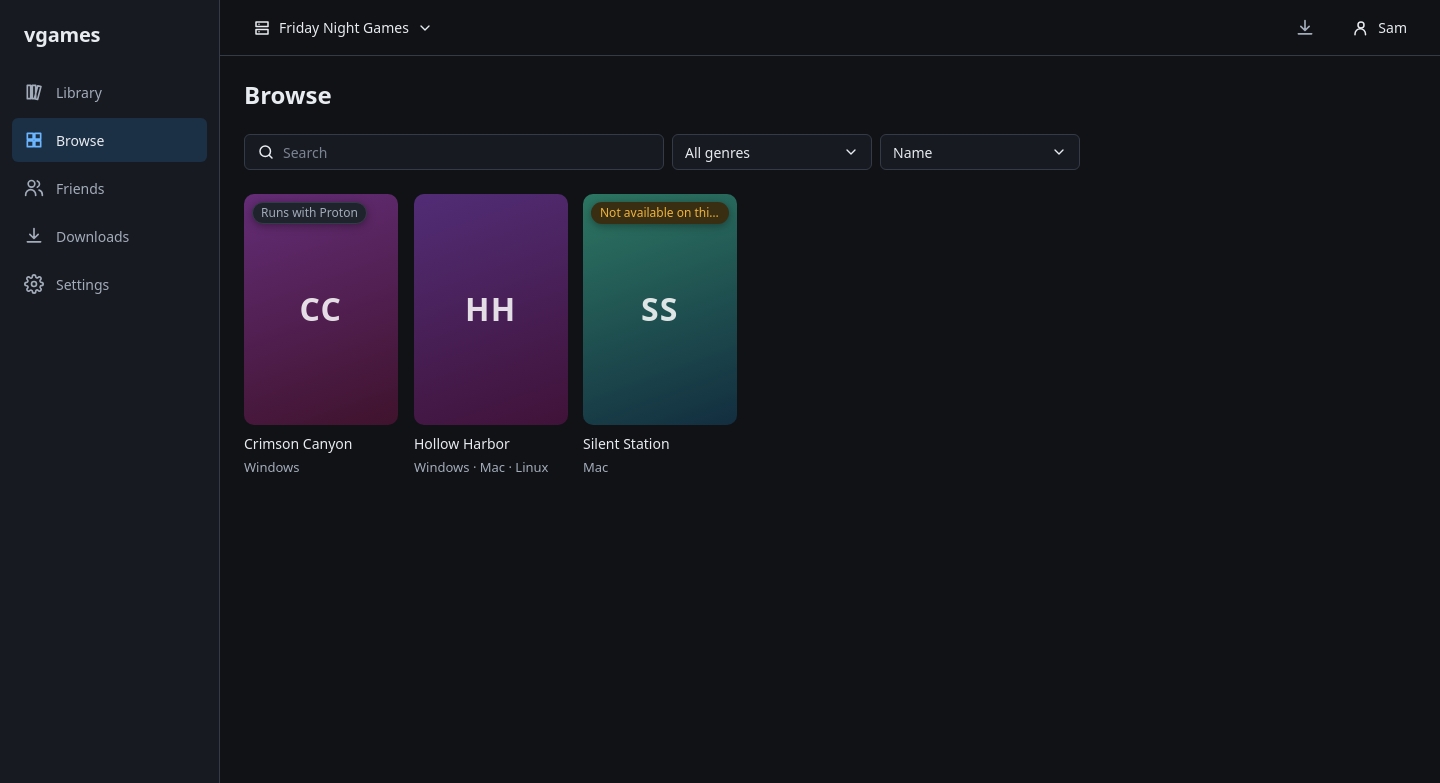
Test: browse › opens the details page
Click the link "Crimson Canyon" at (321, 336), box x1=244 y1=194 x2=398 y2=477
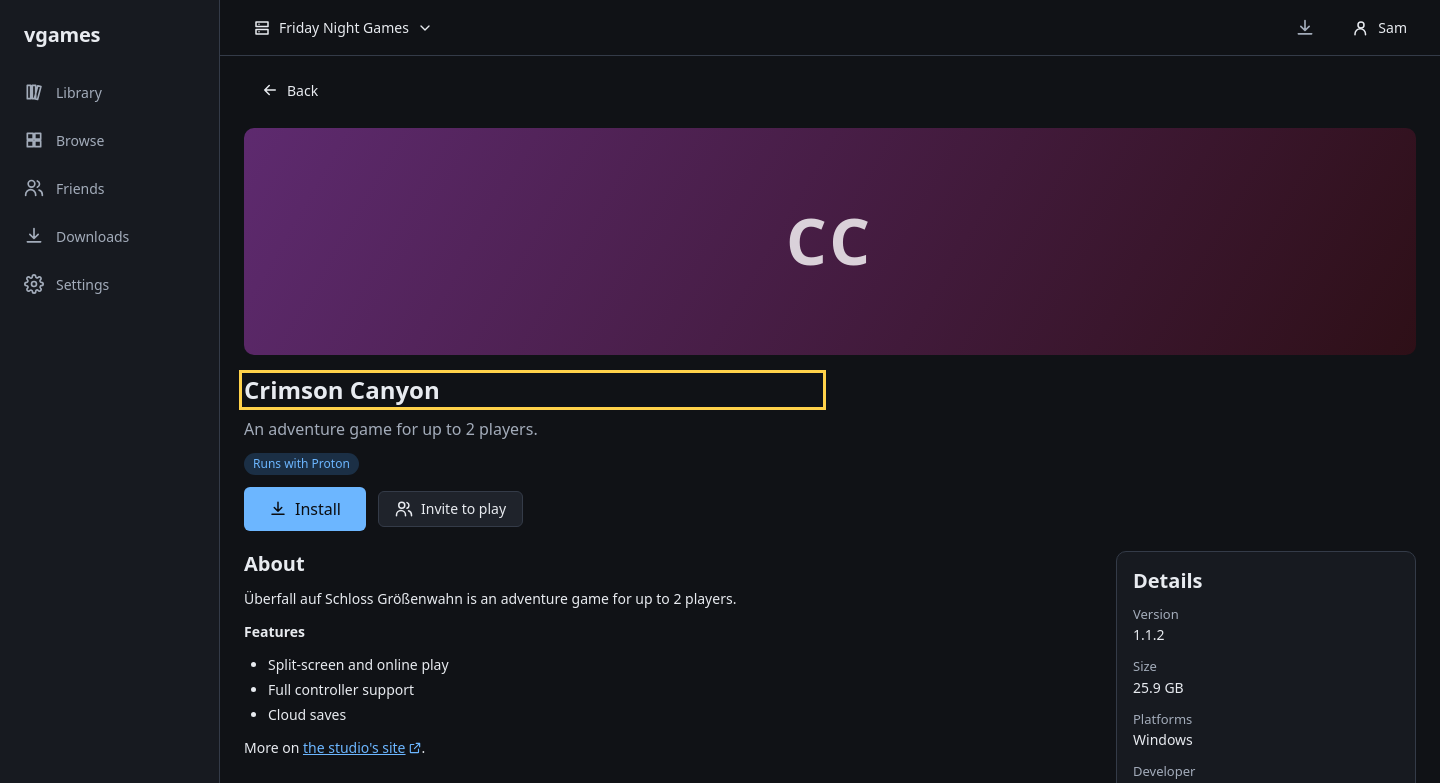
Check: the heading "Crimson Canyon" is shown, box x1=244 y1=373 x2=440 y2=406
